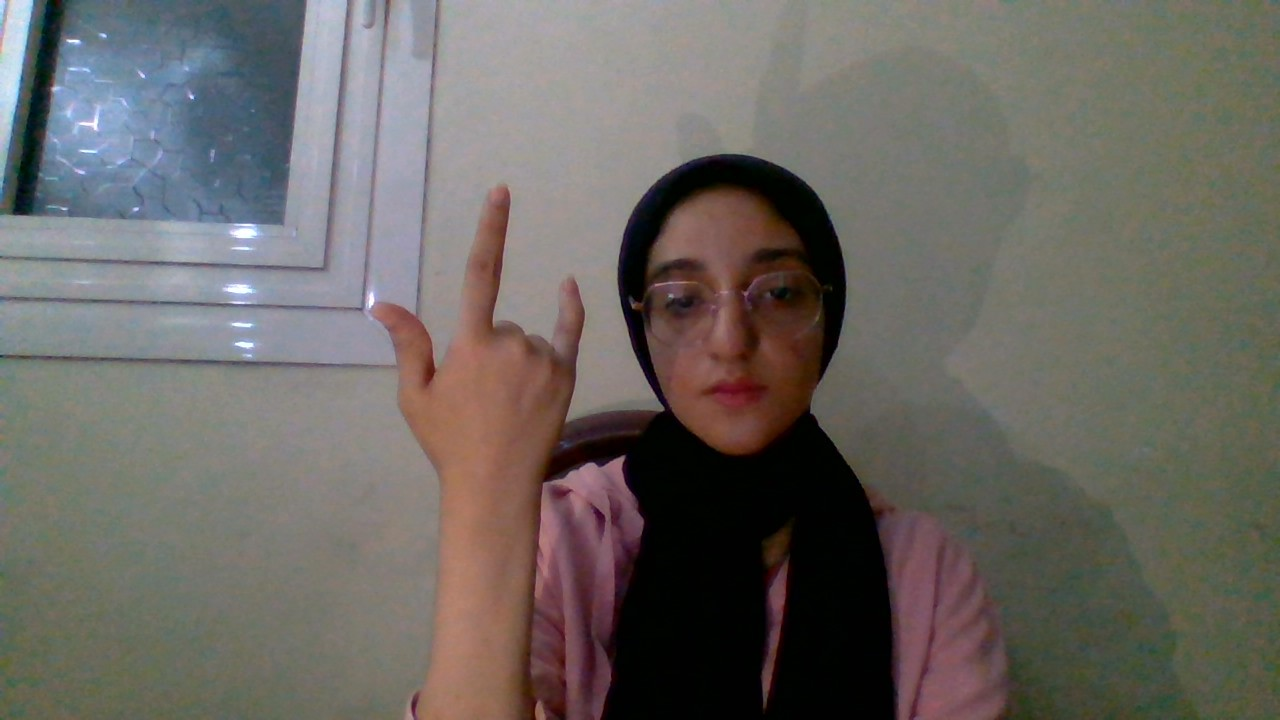love: (288, 171, 651, 549)
